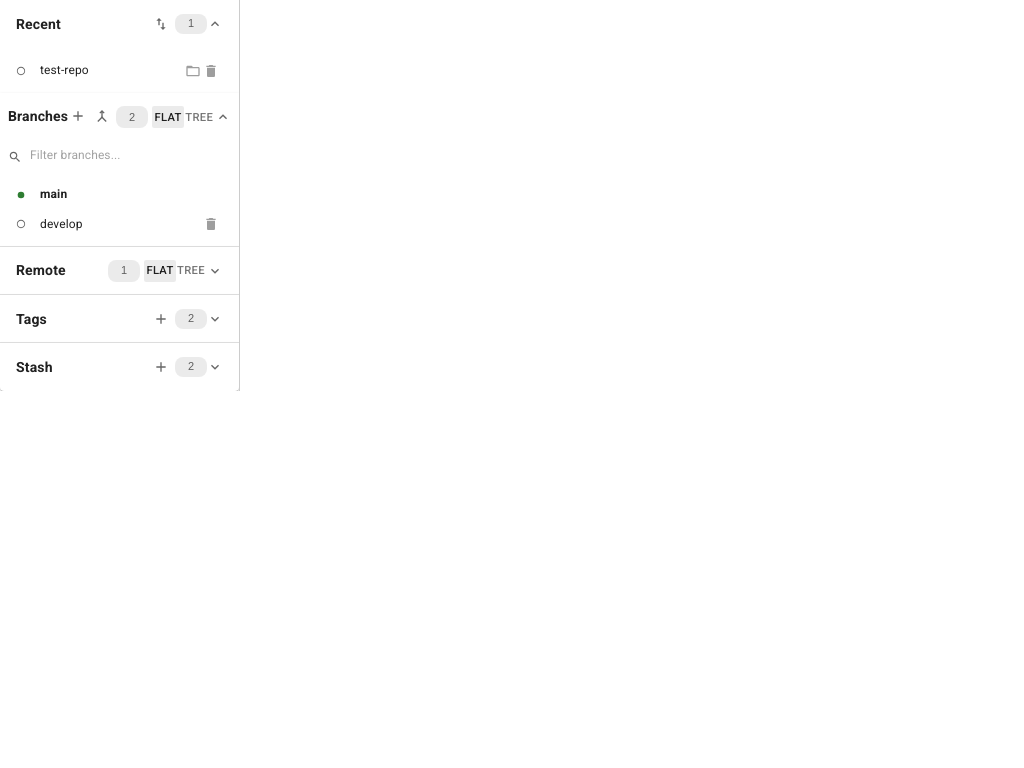
Test: clicking recent shows confirm dialog when skip is not set
Click the text "test-repo" at {"x": 64, "y": 70}, box [40, 63, 89, 77]
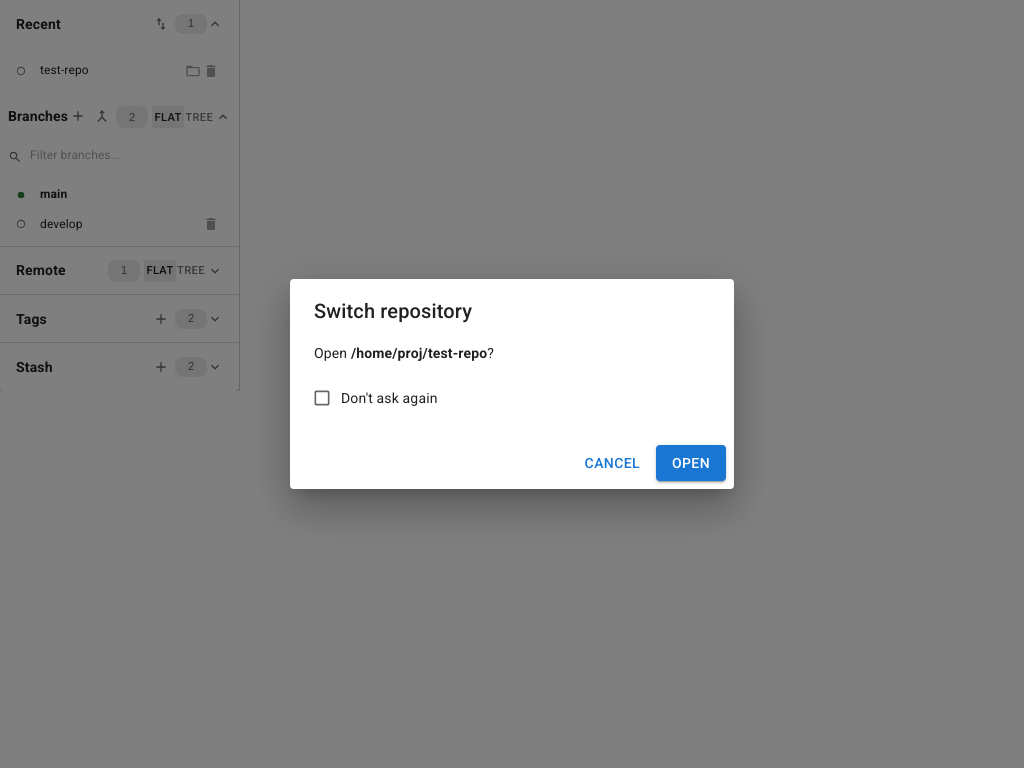
Check: the dialog shows "test-repo", box [351, 345, 487, 361]
